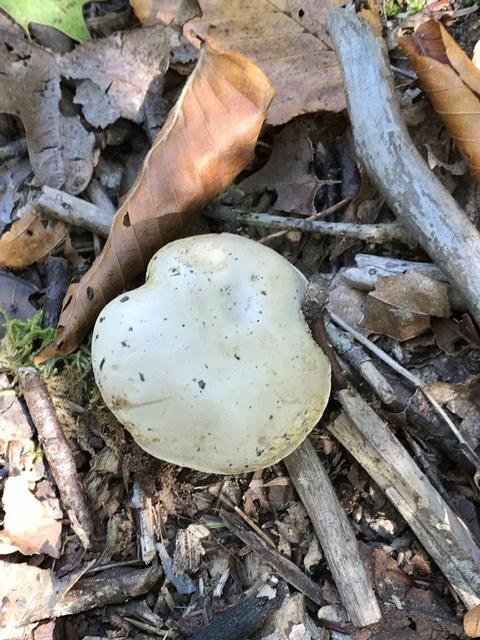Edible Mushroom: (89, 230, 331, 476)
